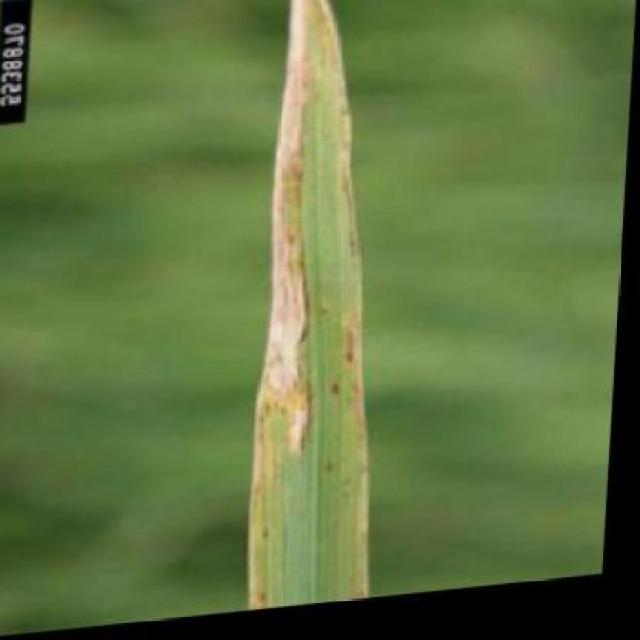Brown_Spot: (236, 0, 405, 618)
